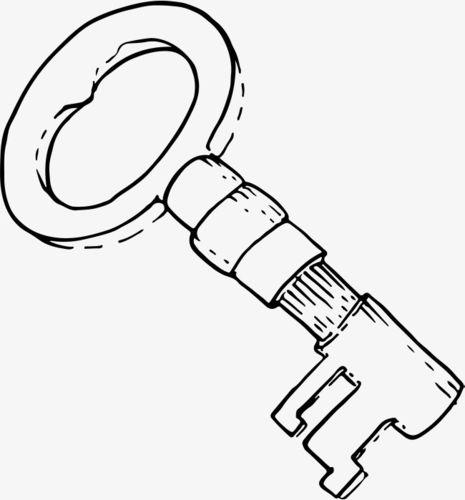key: (4, 1, 465, 498)
